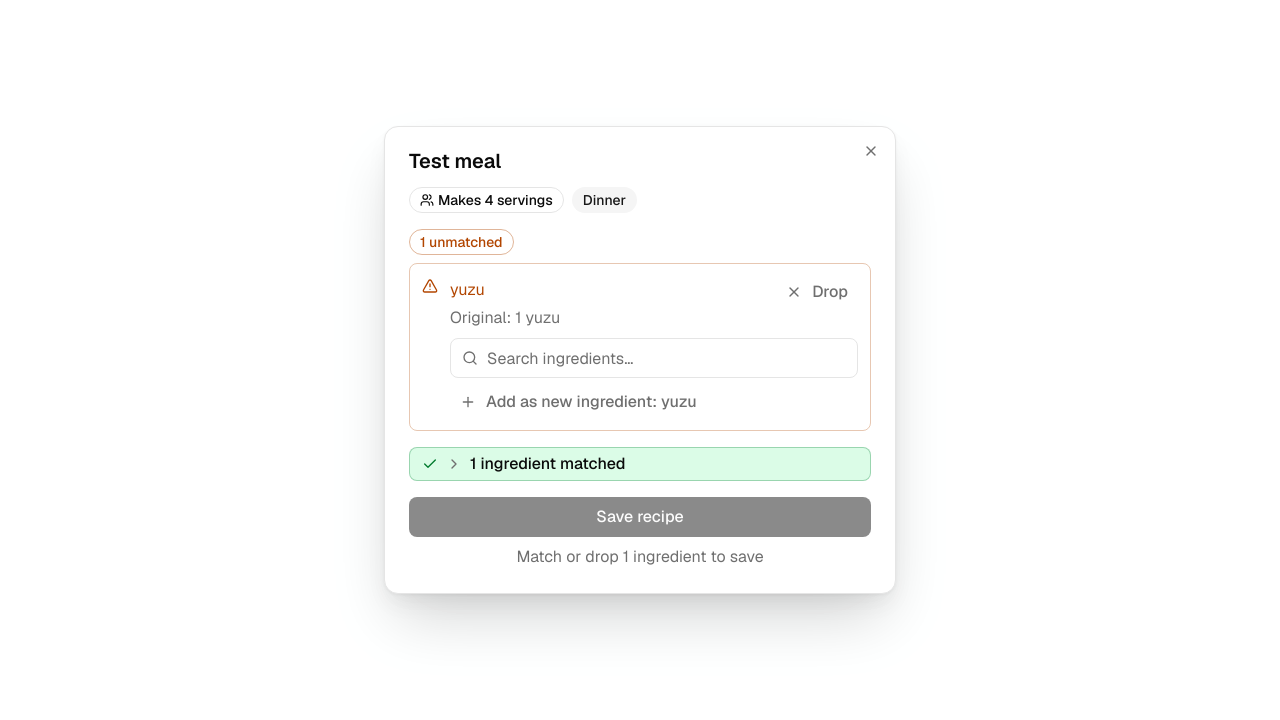
Test case: ImagineReviewDialog nutrition summary › hides the summary while a row is unmatched and shows it once the row is dropped
Expected: the text "kcal" is not shown
What coordinates should you click on to do the following:
click the button "Drop"
I would click on:
 (817, 292)
Its box is [776,276,858,308].
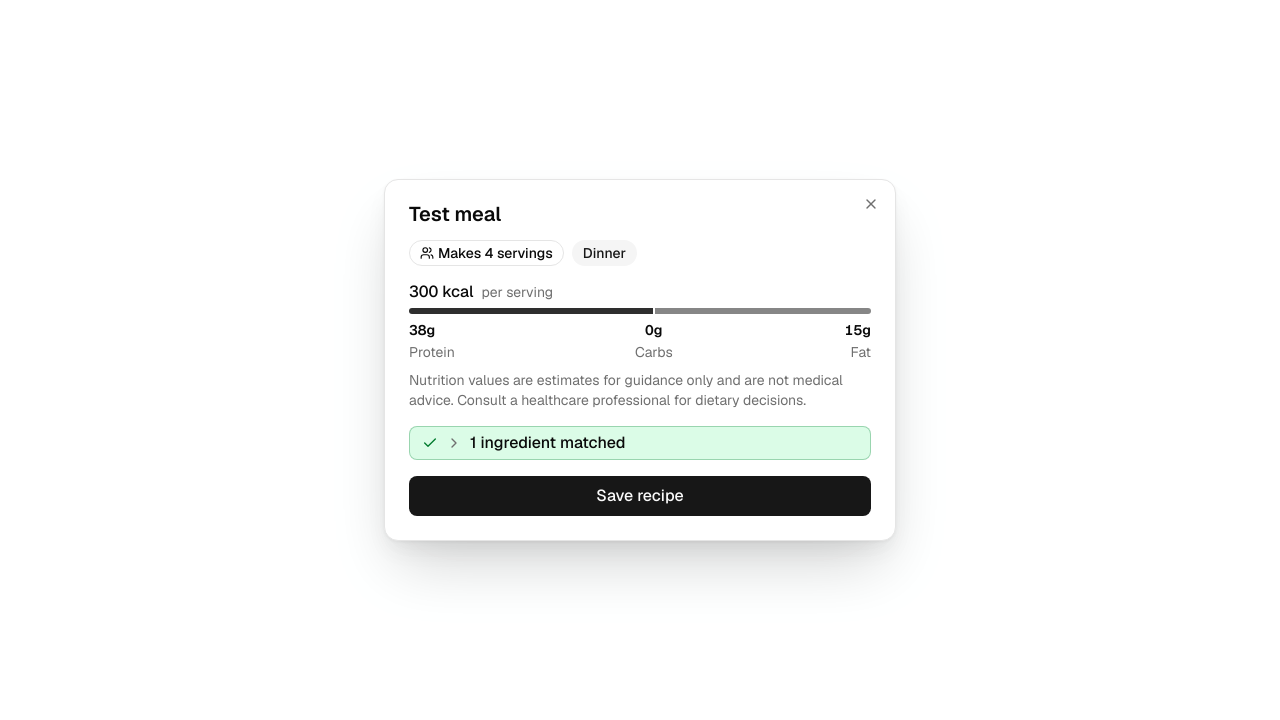
Result: the text "300 kcal" is shown at [409,284,474,300]
